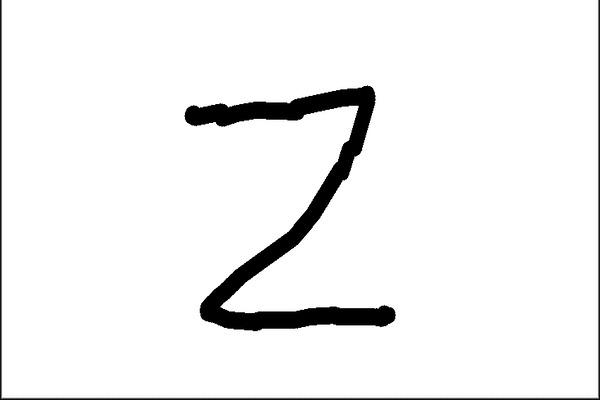Z: (166, 77, 410, 341)
